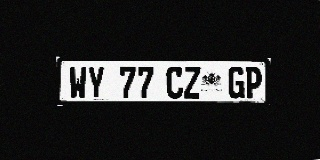7: (119, 66, 136, 99), (137, 66, 154, 99)
C: (166, 66, 183, 99)
G: (228, 67, 245, 98)
P: (245, 67, 262, 98)
W: (69, 66, 87, 99)
Y: (87, 66, 105, 99)
Z: (184, 66, 201, 99)
